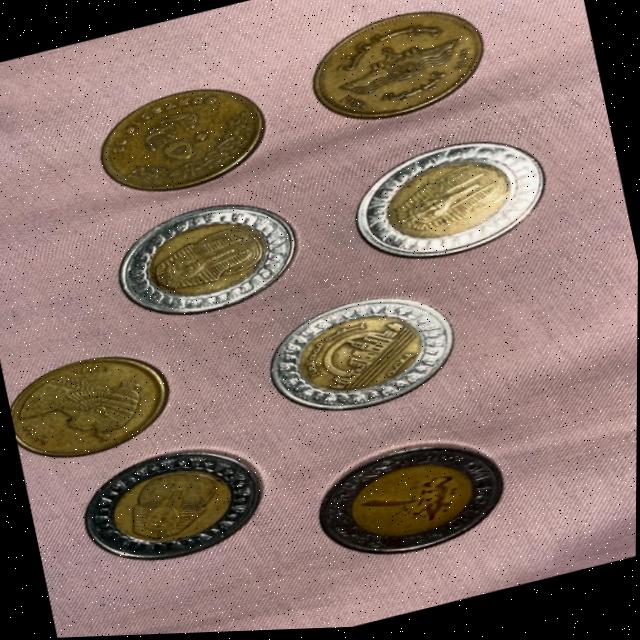Half Pound: (295, 0, 503, 147), (73, 76, 289, 212), (4, 343, 188, 473)
One Pound: (296, 419, 534, 587), (239, 277, 470, 442), (341, 119, 570, 284), (92, 185, 317, 339), (65, 428, 286, 581)
